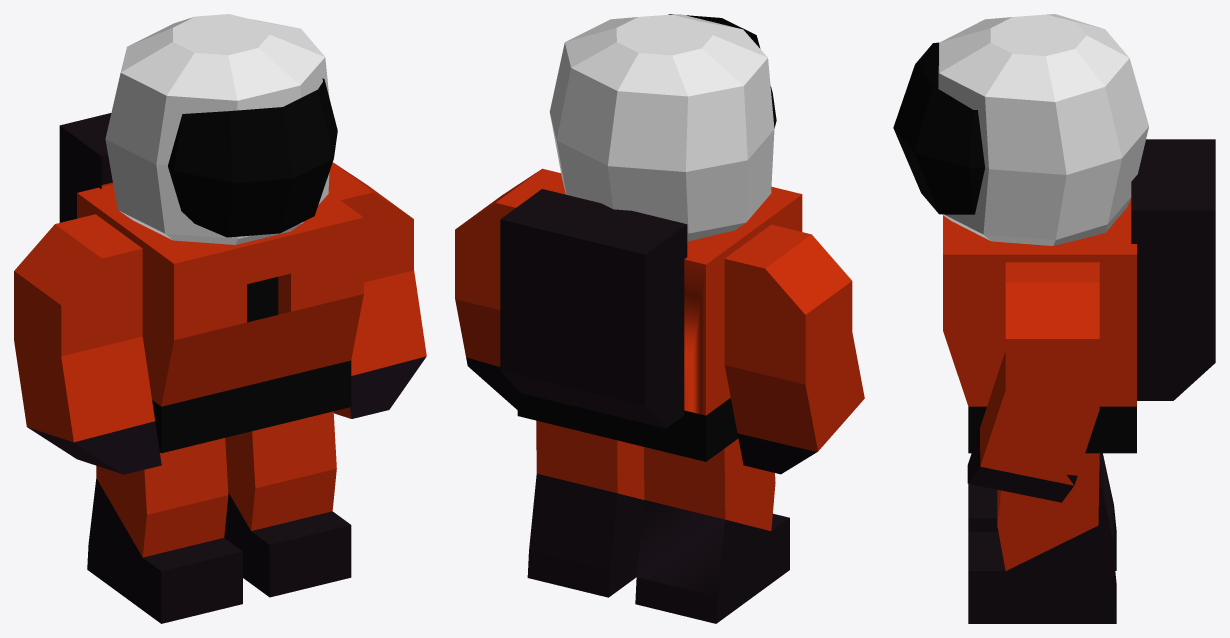
File: Astroboy1.glb
3 renders of one model, left to right at view 1: azimuth 30°, elevation 25°; view 2: azimuth 150°, elevation 25°; view 3: azimuth 270°, elevation 25°, orthographic.
Visible parts, largest first — view 1: body.001; view 2: body.001; view 3: body.001.
Part boxes in pixels (left/top/right/bottom): body.001: left=14, top=14, right=426, bottom=623; body.001: left=455, top=14, right=864, bottom=623; body.001: left=893, top=14, right=1215, bottom=623.
Size of the model in its own units: 4.83 by 7.08 by 3.82.
Materials: 4 (1 with a texture image).
